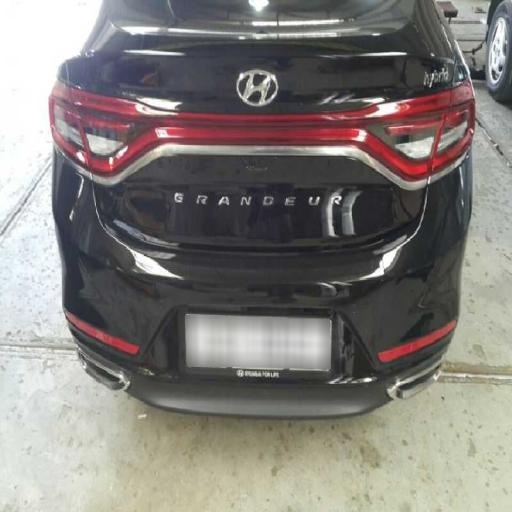dent: (51, 13, 474, 221)
